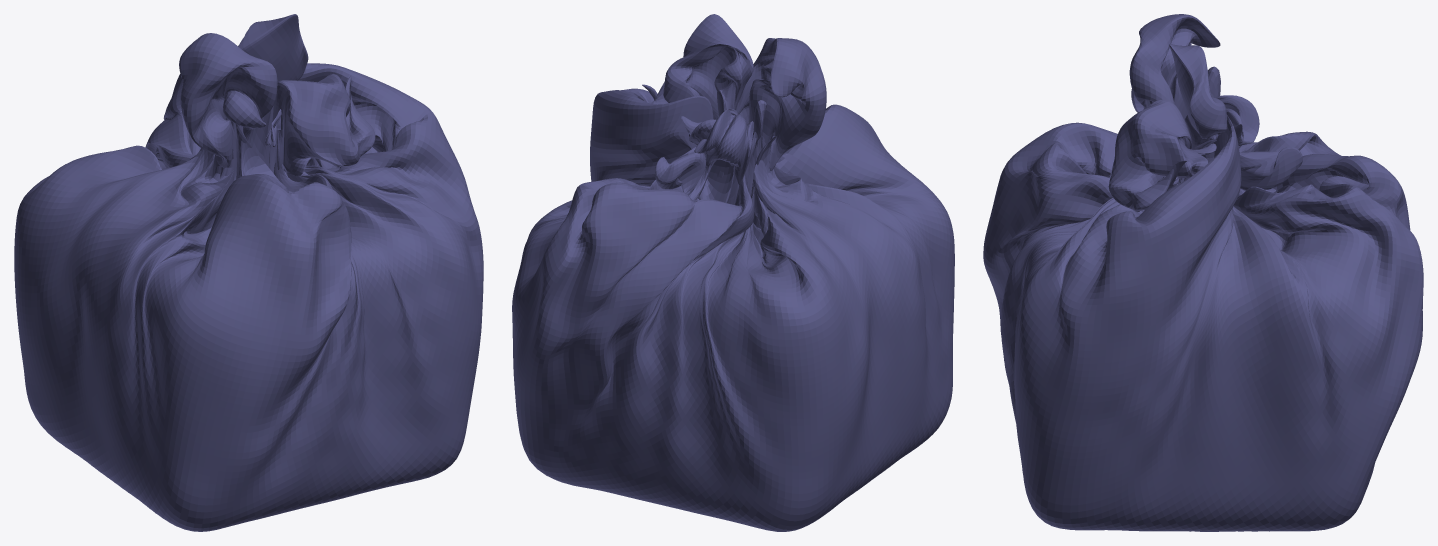
File: candypouchJ.fbx
3 renders of one model, left to right at view 1: azimuth 30°, elevation 25°; view 2: azimuth 150°, elevation 25°; view 3: azimuth 270°, elevation 25°, orthographic. The views are drawn at different scales.
Visible parts, largest first — view 1: Plane; view 2: Plane; view 3: Plane.
Part boxes in pixels (bbox=[...]): Plane: bbox=[14, 14, 483, 531]; Plane: bbox=[512, 14, 954, 531]; Plane: bbox=[983, 14, 1423, 531].
Size of the model in its own units: 67.28 by 82.44 by 73.61.
